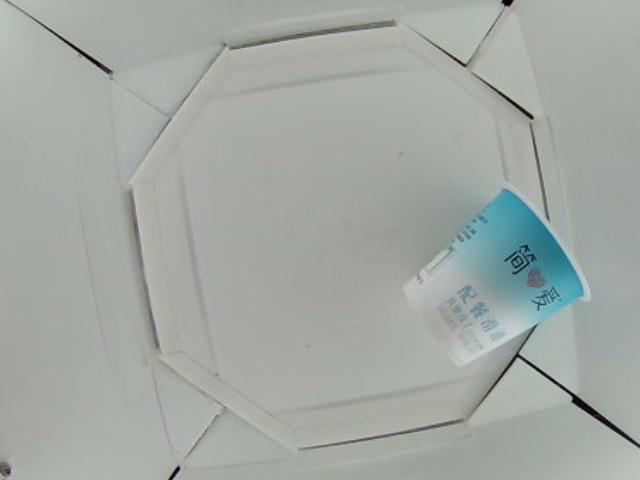Cup: (404, 179, 595, 365)
